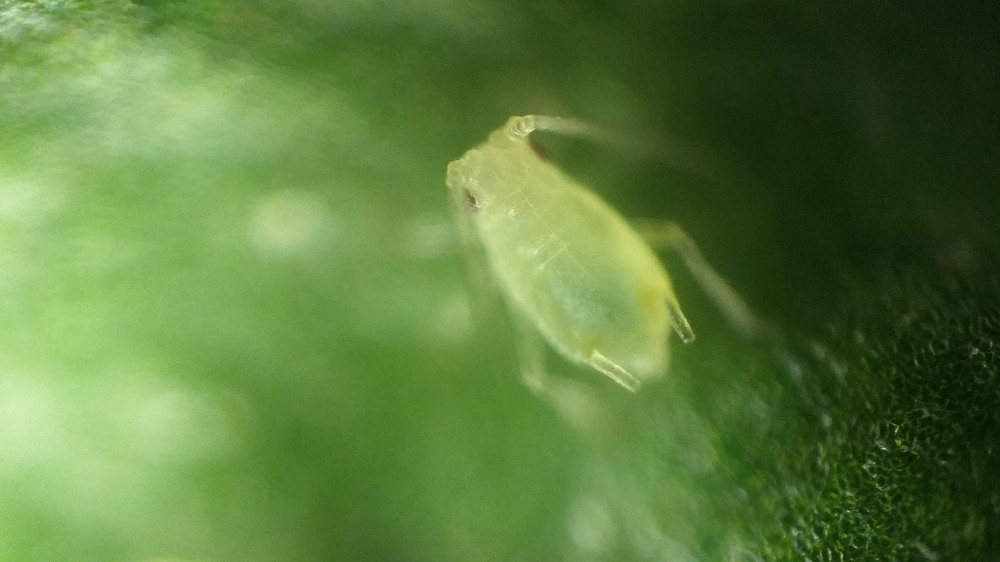Pulgon: (411, 97, 799, 441)
